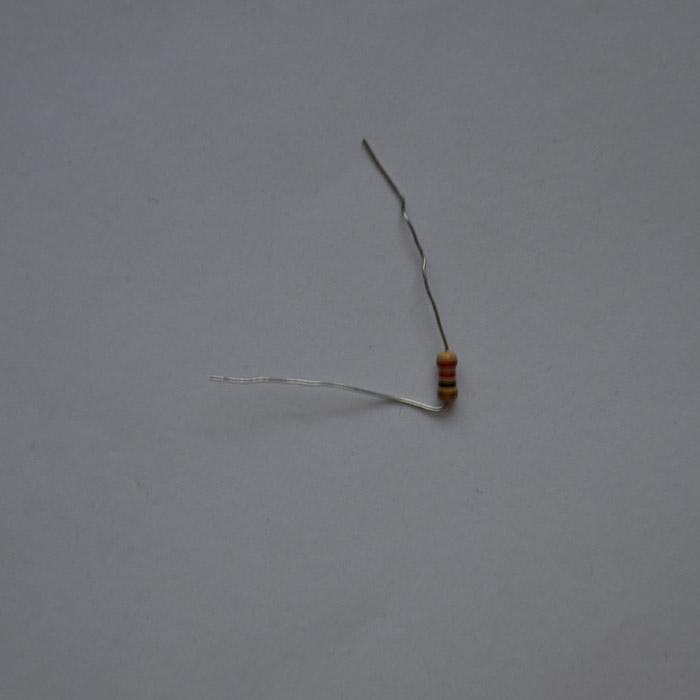resistor: (435, 349, 458, 402)
